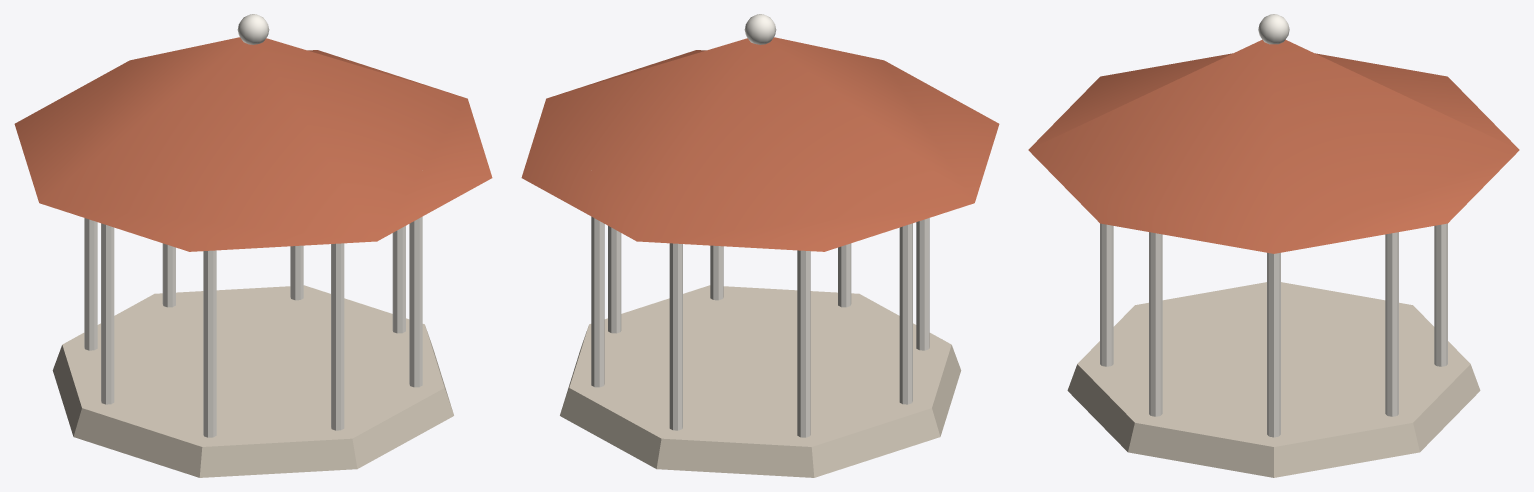
Rendered from quiosco.fbx.
The picture shows the model from 3 angles, left to right: view 1: azimuth 30°, elevation 25°; view 2: azimuth 150°, elevation 25°; view 3: azimuth 270°, elevation 25°; orthographic projection.
Parts seen in each view (by area): view 1: terracotta, stone, white_03, white_04, white_05, white_02, white_06, white, white_07, white_09, white_08; view 2: terracotta, stone, white_06, white_07, white_05, white_08, white_04, white, white_03, white_09, white_02; view 3: terracotta, stone, white, white_02, white_08, white_03, white_07, white_09.
Boxes of the visible parts, x1,y1,x2,y2 form: terracotta: [14, 37, 492, 251]; stone: [52, 285, 453, 477]; white_03: [331, 243, 344, 430]; white_04: [203, 250, 216, 437]; white_05: [101, 223, 114, 404]; white_02: [409, 216, 422, 387]; white_06: [84, 218, 97, 350]; white: [392, 226, 405, 333]; white_07: [162, 243, 175, 307]; white_09: [237, 14, 269, 44]; white_08: [290, 245, 303, 300]; terracotta: [521, 37, 999, 251]; stone: [560, 285, 961, 477]; white_06: [797, 250, 810, 437]; white_07: [669, 243, 682, 430]; white_05: [899, 223, 912, 404]; white_08: [591, 216, 604, 387]; white_04: [916, 218, 929, 350]; white: [608, 226, 621, 333]; white_03: [838, 243, 851, 307]; white_09: [744, 14, 776, 44]; white_02: [710, 245, 723, 300]; terracotta: [1028, 39, 1519, 253]; stone: [1067, 282, 1480, 477]; white: [1267, 252, 1280, 437]; white_02: [1149, 232, 1162, 416]; white_08: [1385, 232, 1398, 416]; white_03: [1100, 223, 1113, 366]; white_07: [1434, 223, 1447, 366]; white_09: [1258, 14, 1289, 44].
Bounding box in the file's own units: 5 × 4.21 × 5.
